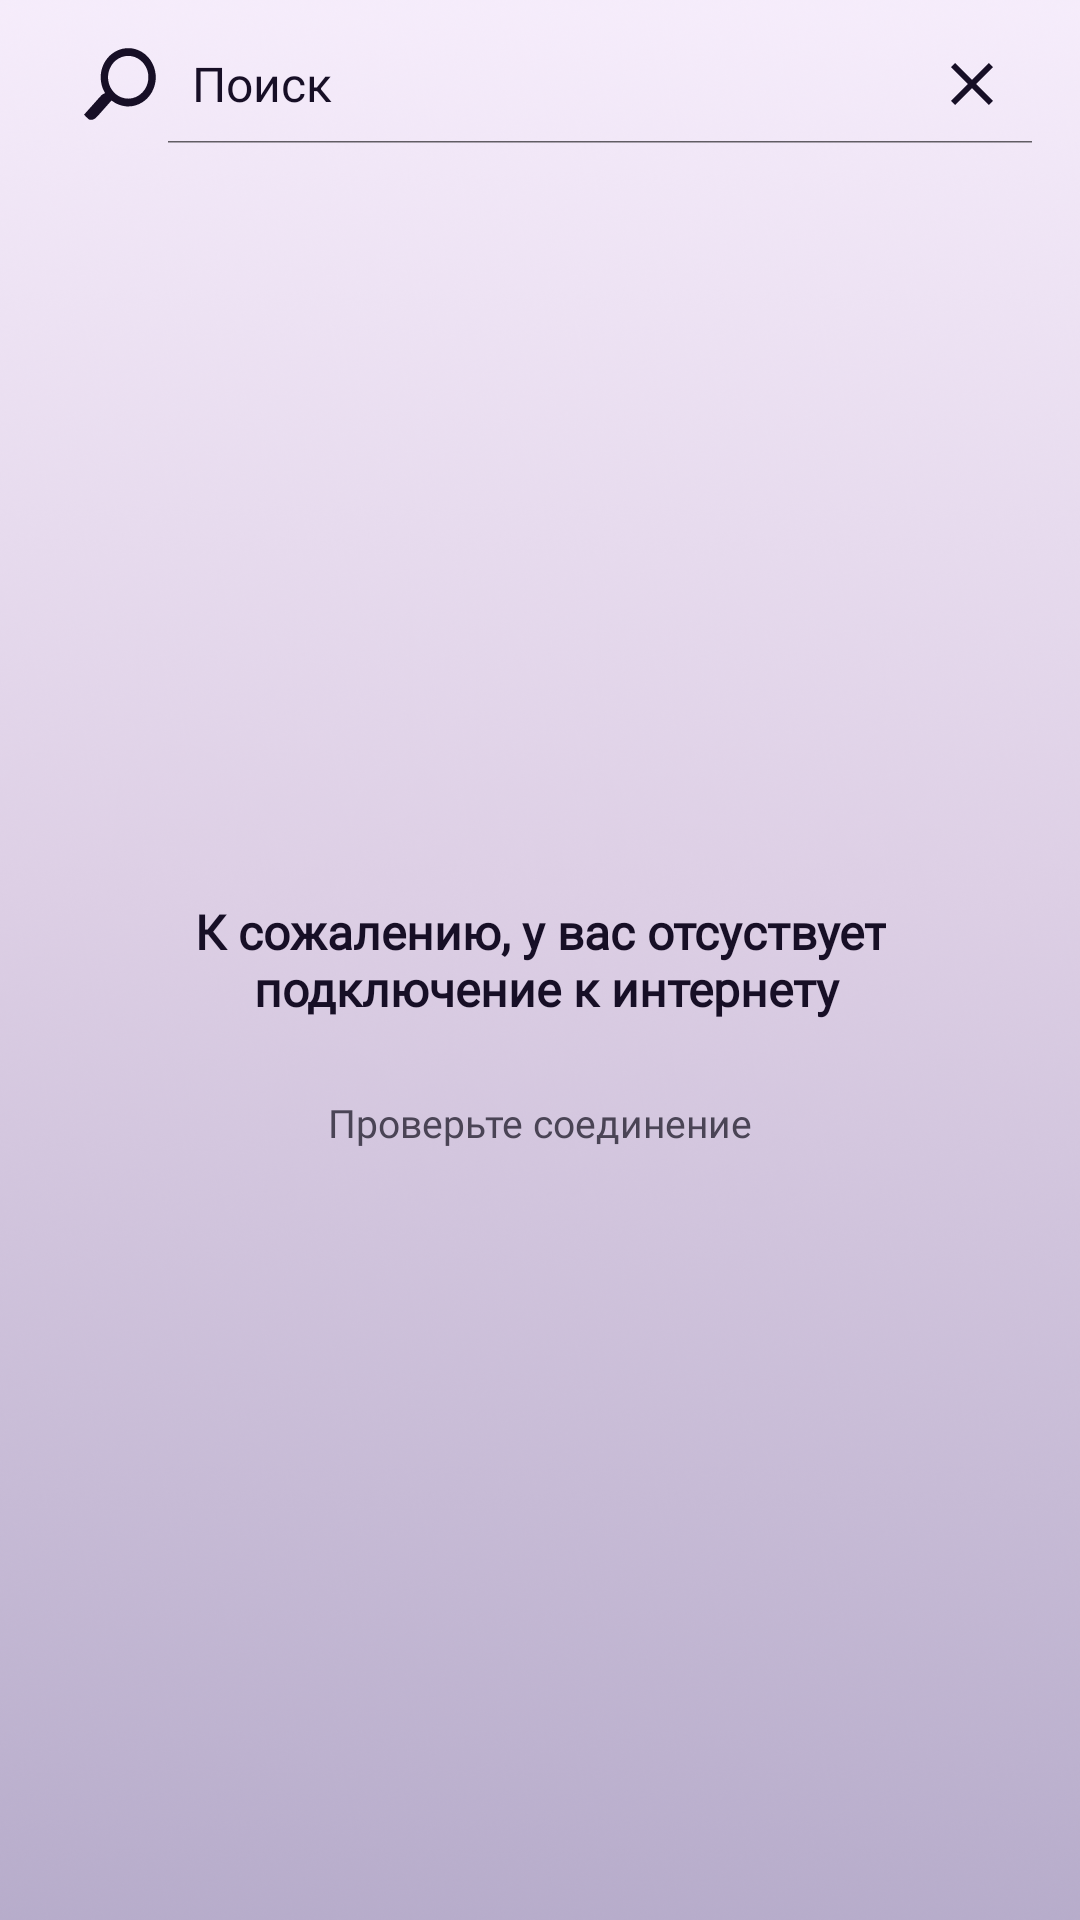

Icons on this 1080px×1920px Android screen, each with the point to tap as (x=x, y=y):
close: (x=972, y=84)
